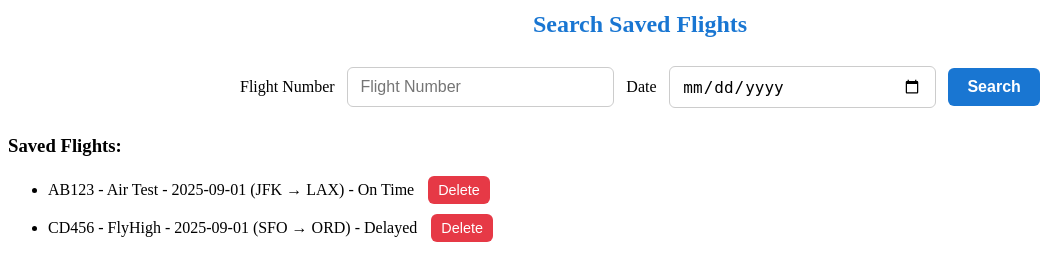
Test: <FlightSearch /> › filters flights by number
Type "AB123" into the field labelled "Flight Number" at x=481, y=87, box [347,67,614,107]
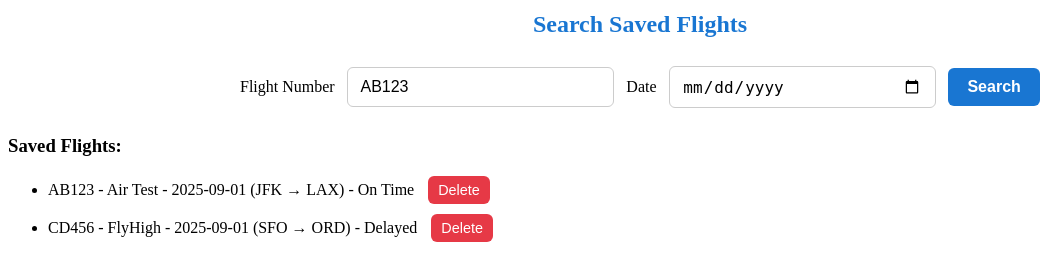
Click the button "Search" at x=994, y=87, box [948,68,1040,106]
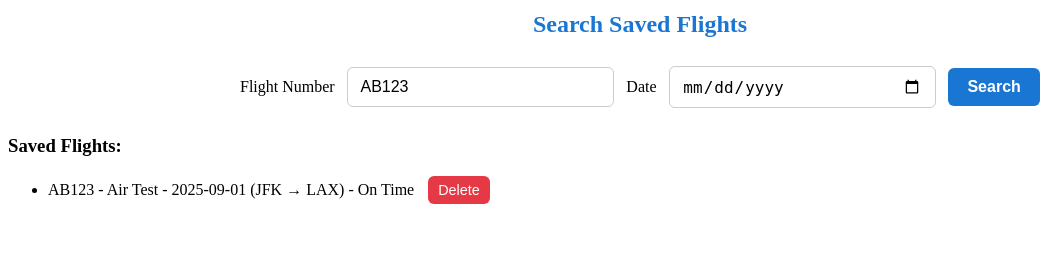
expect the list item "AB123 - Air Test - 2025-09-01 (JFK → LAX) - On Time Delete" is shown: met, box [48,176,490,204]
expect the list item "CD456 - FlyHigh" is gone: met
